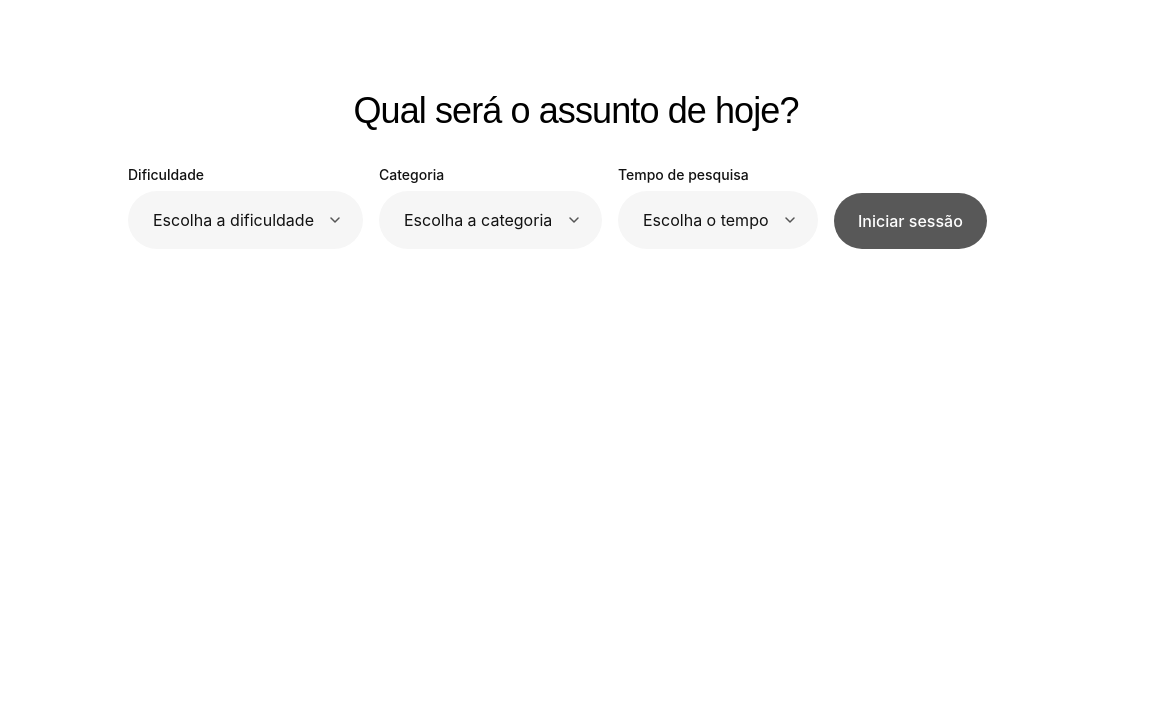
Test: HomePage › opens authentication for a visitor whose browser already used the trial
This screenshot has width=1152, height=720.
Select "Equilibrado" in the dropdown labelled "Dificuldade" at (246, 220), box x1=128 y1=191 x2=363 y2=249
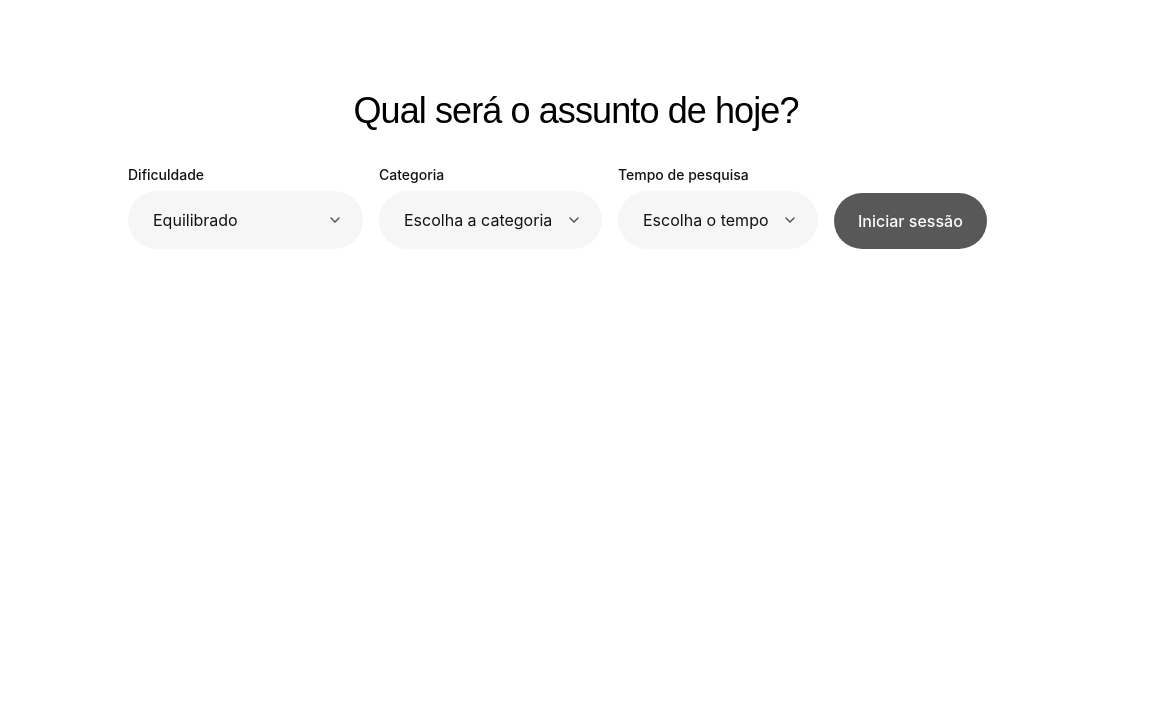
Select "Foco" in the dropdown labelled "Categoria" at (490, 220), box x1=379 y1=191 x2=602 y2=249
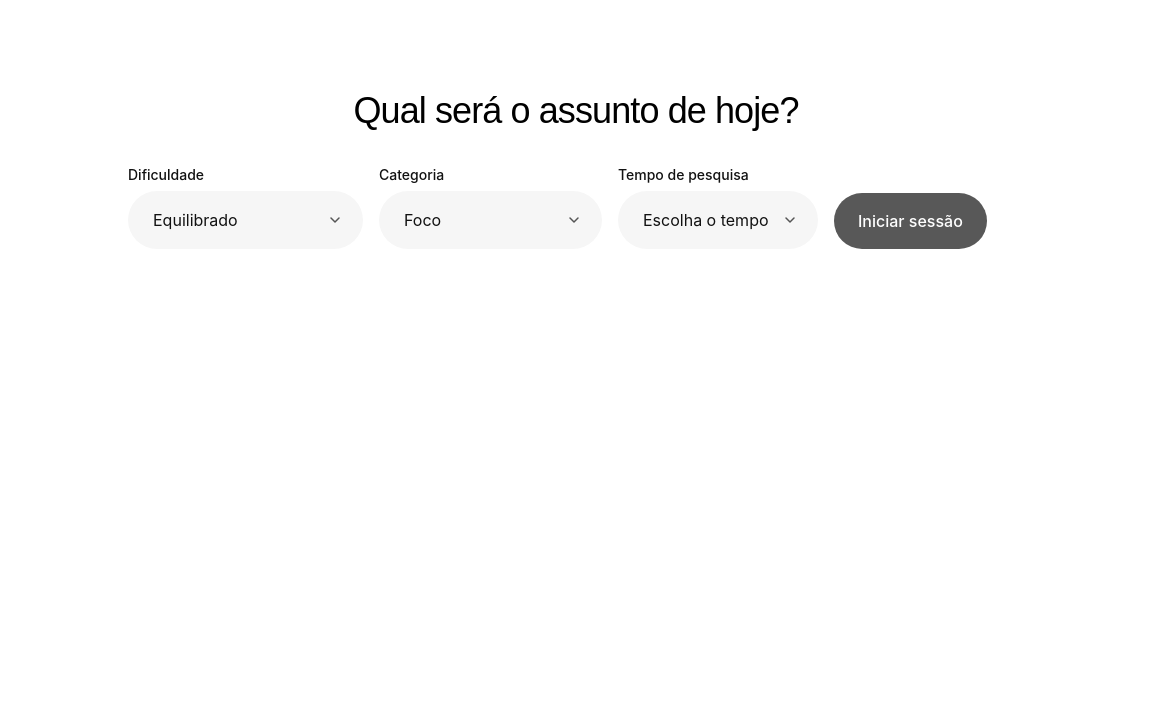
Select "4 minutos" in the dropdown labelled "Tempo de pesquisa" at (718, 220), box x1=618 y1=191 x2=818 y2=249
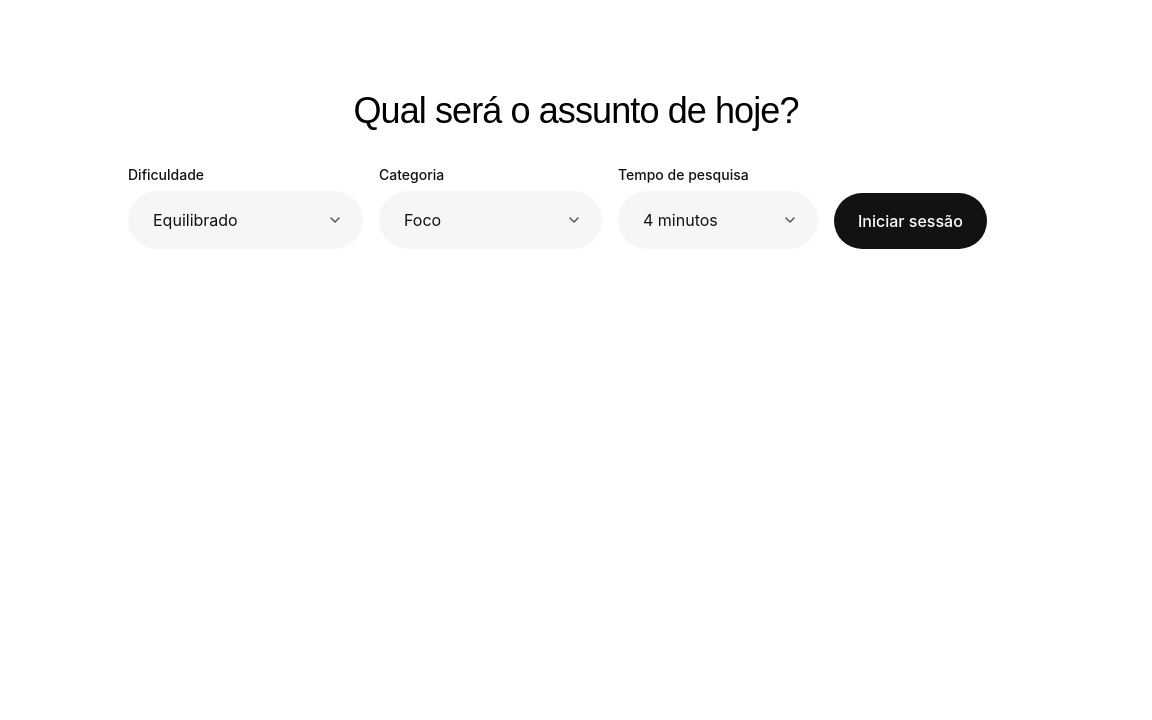
Click the button "Iniciar sessão" at (910, 221), box x1=834 y1=193 x2=987 y2=249
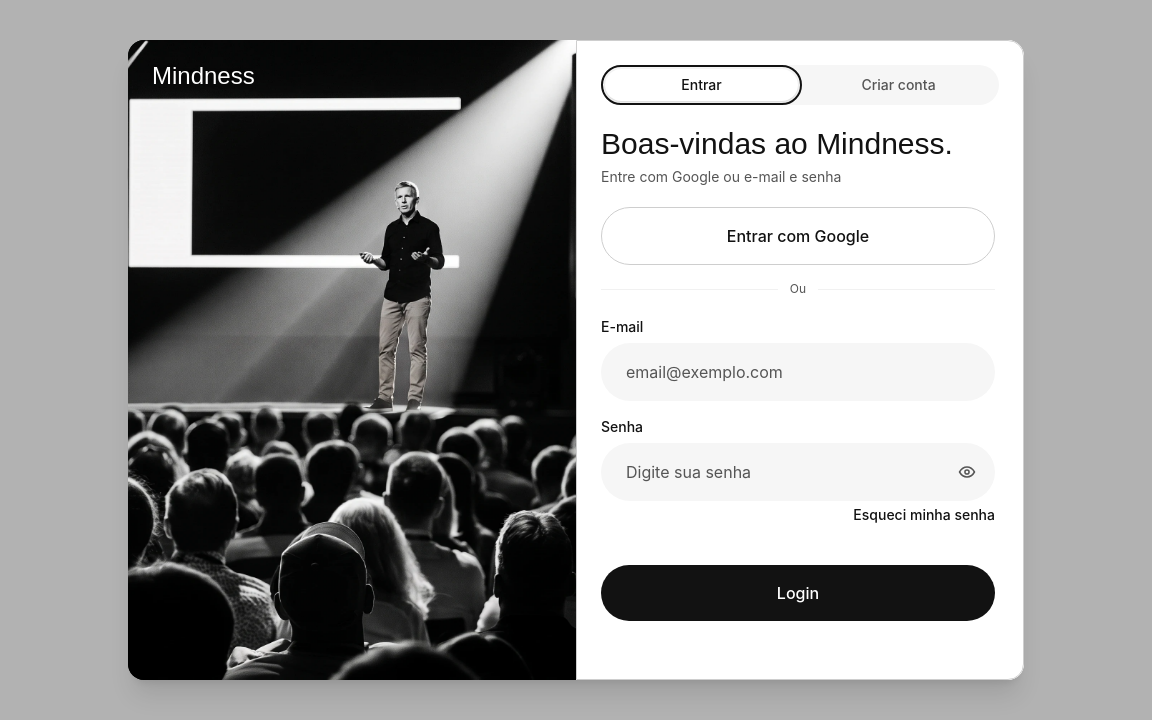
Expected: the dialog named "É bom ter você de volta." is shown
